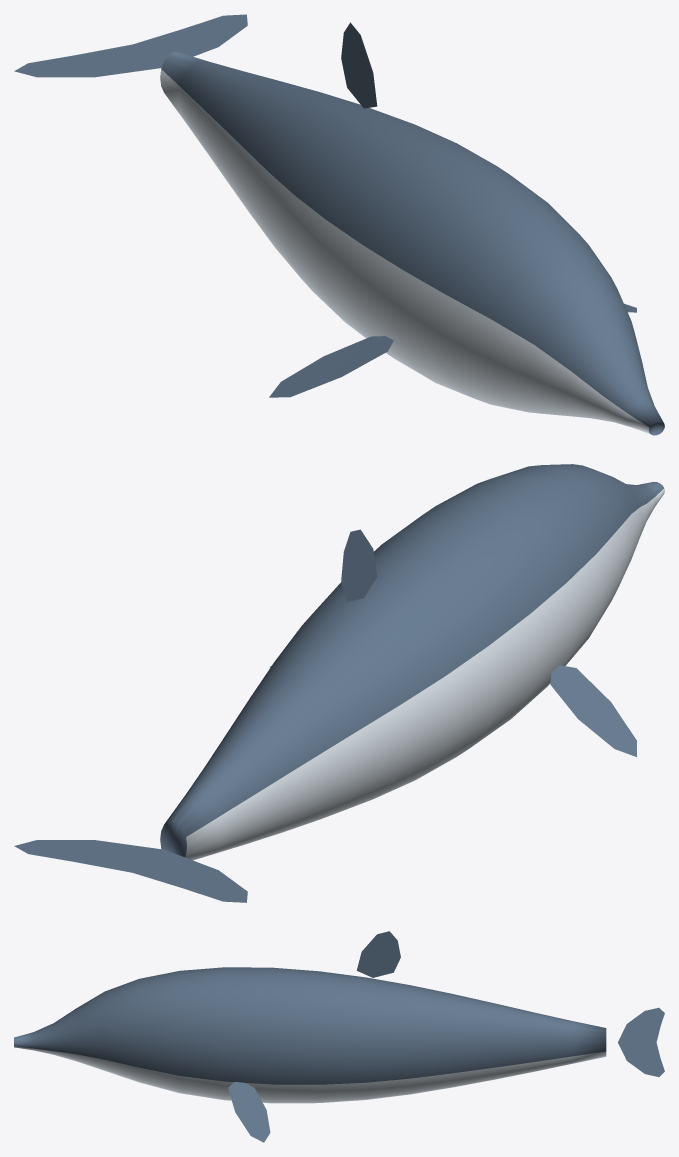
The model's file is dolphin.glb.
The picture shows the model from 3 angles, top to bottom: view 1: azimuth 30°, elevation 25°; view 2: azimuth 150°, elevation 25°; view 3: azimuth 270°, elevation 25°; orthographic projection. The views are drawn at different scales.
Parts seen in each view (by area): view 1: Dolphin; view 2: Dolphin; view 3: Dolphin.
Part boxes in pixels (x1,y1,x2,y2): Dolphin: (14, 14, 664, 435); Dolphin: (14, 464, 664, 902); Dolphin: (14, 931, 664, 1142).
Bounding box in the file's own units: 1.36 × 0.9617 × 3.41.
